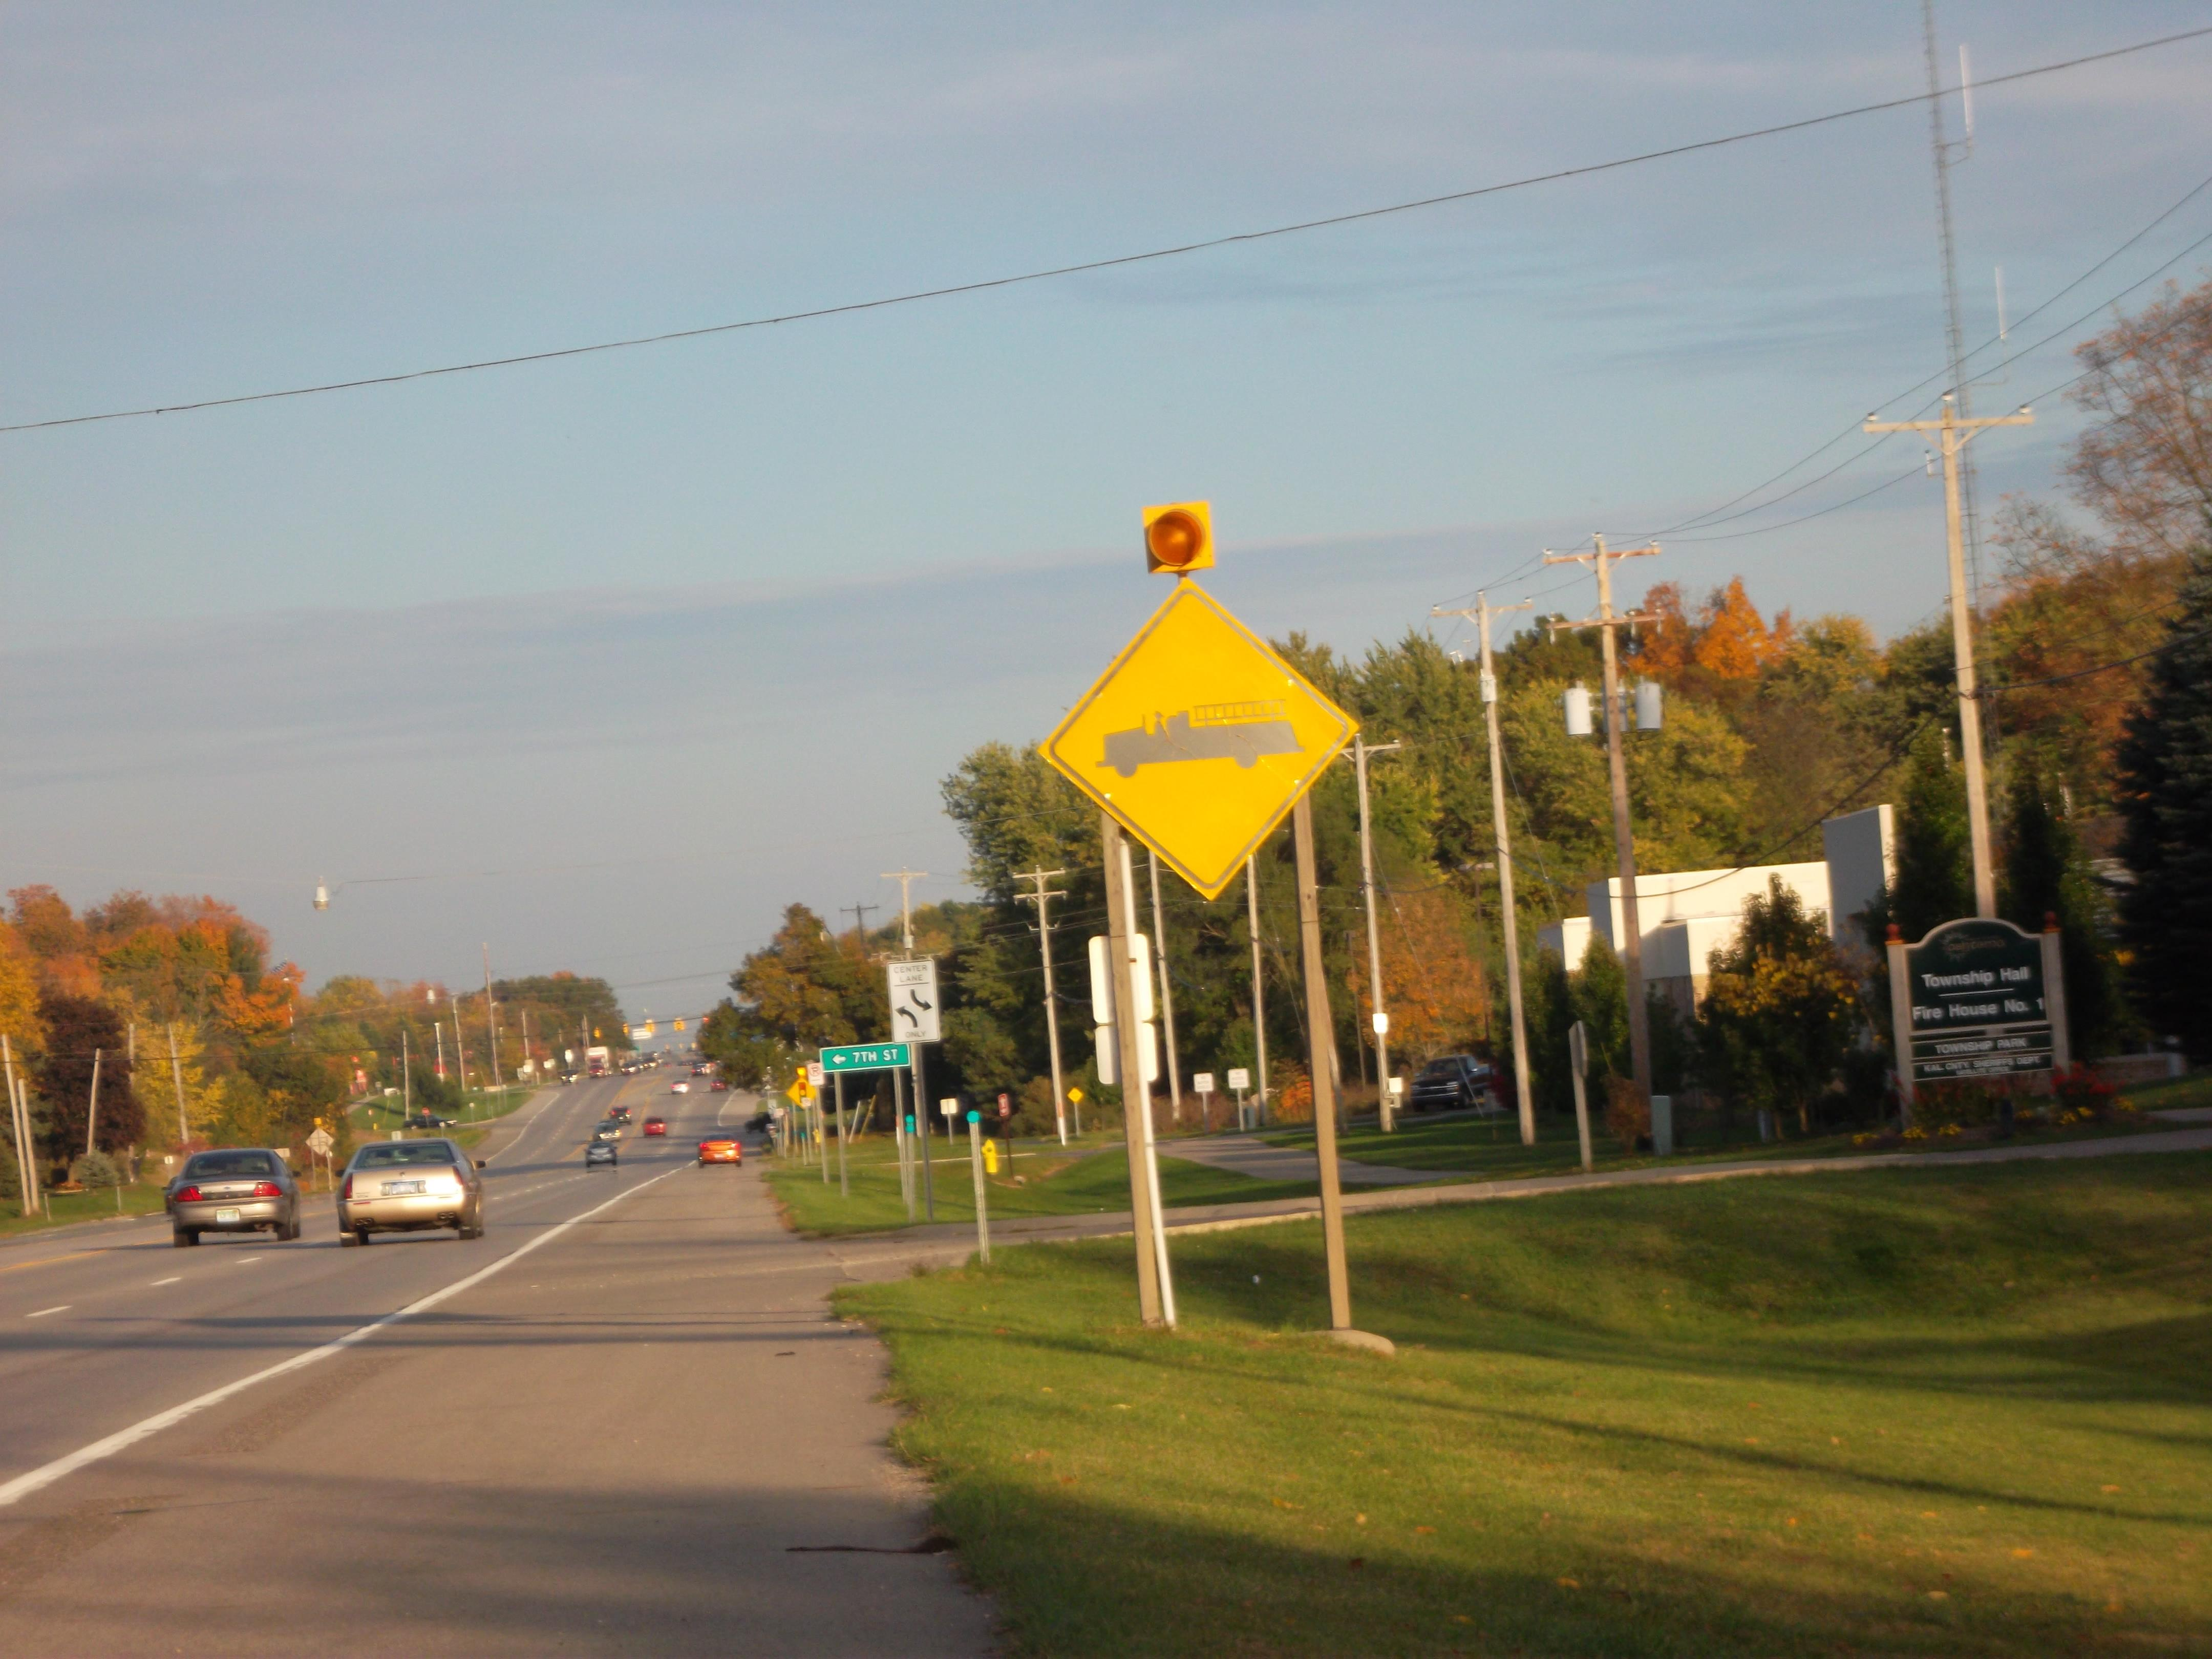regulatory: (887, 955, 944, 1051)
warning: (1038, 577, 1357, 899), (789, 1077, 817, 1110)
